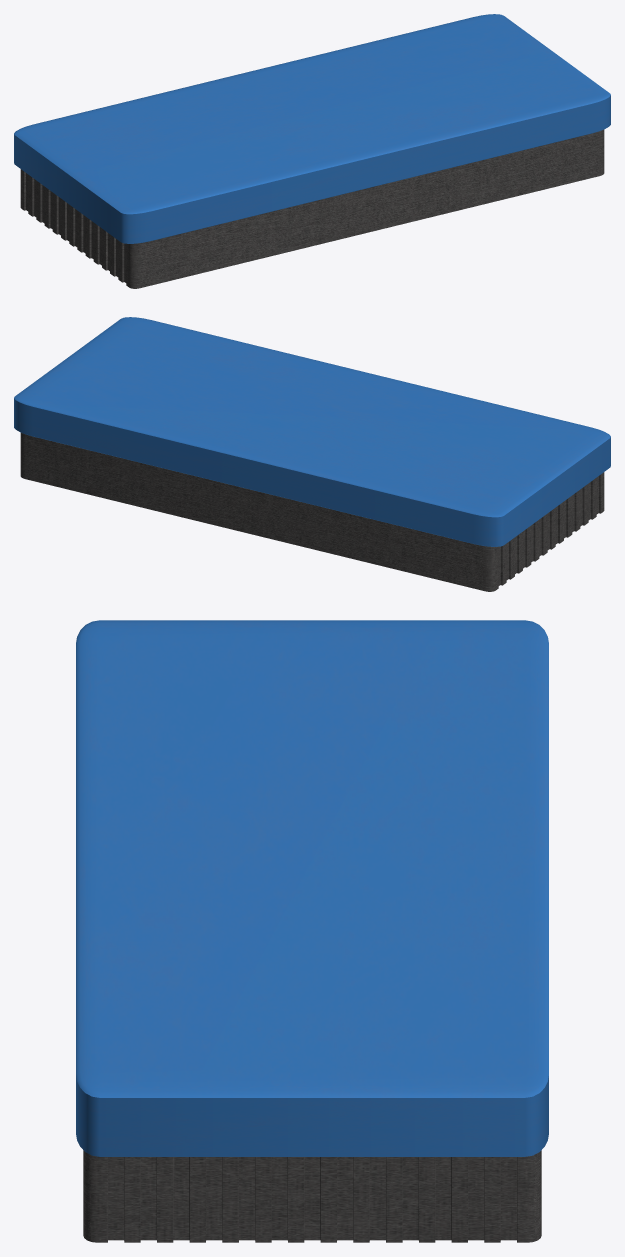
File: Chalk_Eraser.fbx
3 renders of one model, top to bottom at view 1: azimuth 30°, elevation 25°; view 2: azimuth 150°, elevation 25°; view 3: azimuth 270°, elevation 25°, orthographic. The views are drawn at different scales.
Visible parts, largest first — view 1: Chalk_Eraser; view 2: Chalk_Eraser; view 3: Chalk_Eraser.
Boxes of the visible parts, left/top/right/bottom form: Chalk_Eraser: left=14, top=14, right=610, bottom=288; Chalk_Eraser: left=14, top=317, right=610, bottom=591; Chalk_Eraser: left=76, top=620, right=548, bottom=1242.
Bounding box in the file's own units: 42.6 × 6.46 × 17.84.
